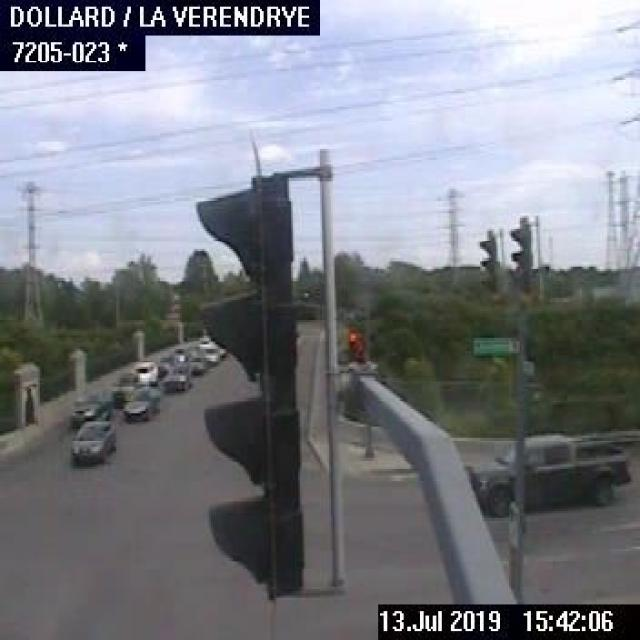vehicle: (469, 431, 629, 517), (69, 420, 113, 458), (68, 392, 108, 422), (121, 391, 155, 421), (162, 360, 191, 390), (110, 370, 134, 404), (132, 358, 156, 387), (187, 355, 206, 375)
